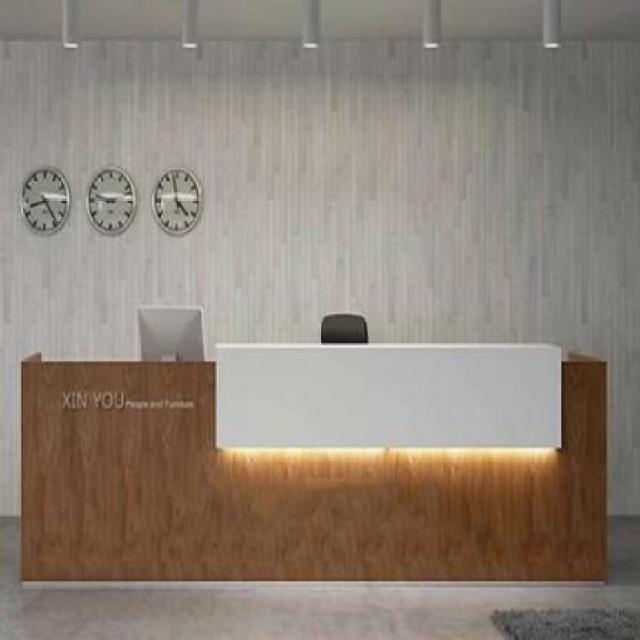frontdesk: (12, 332, 621, 597)
